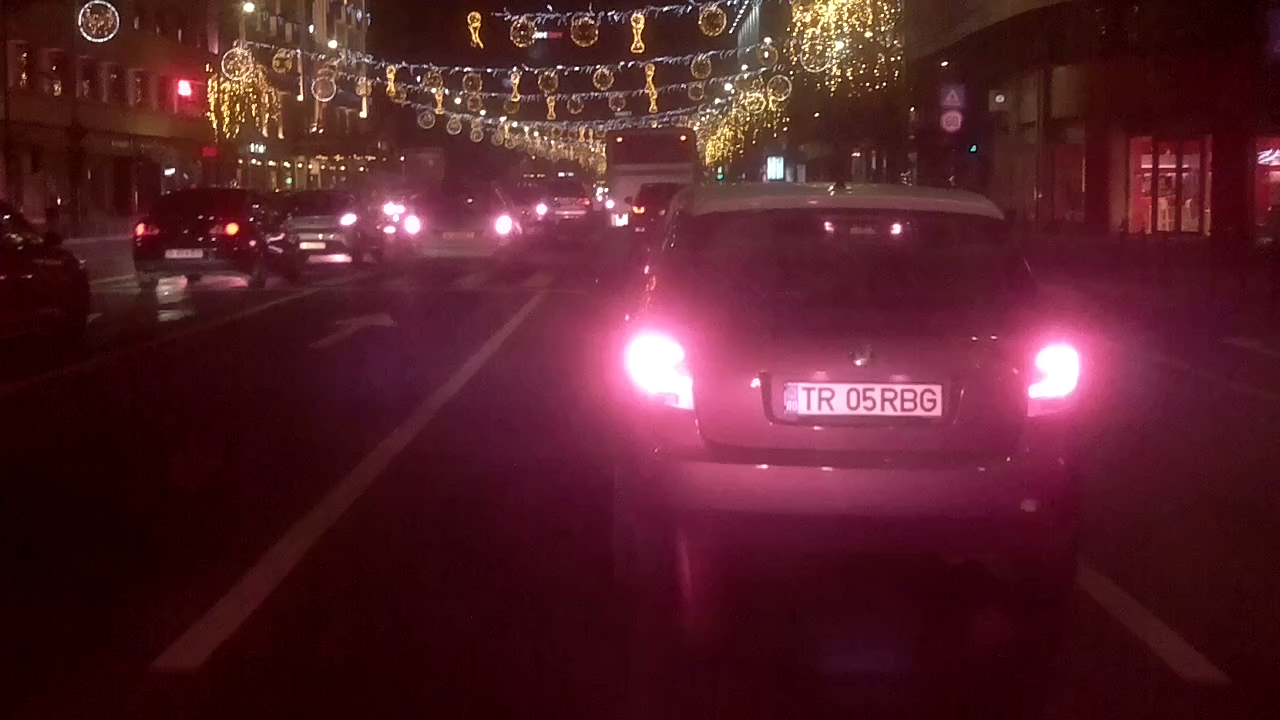license-plate: (779, 376, 948, 423)
